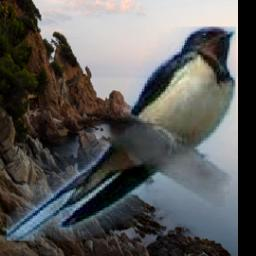Swallow: (7, 28, 236, 242)
